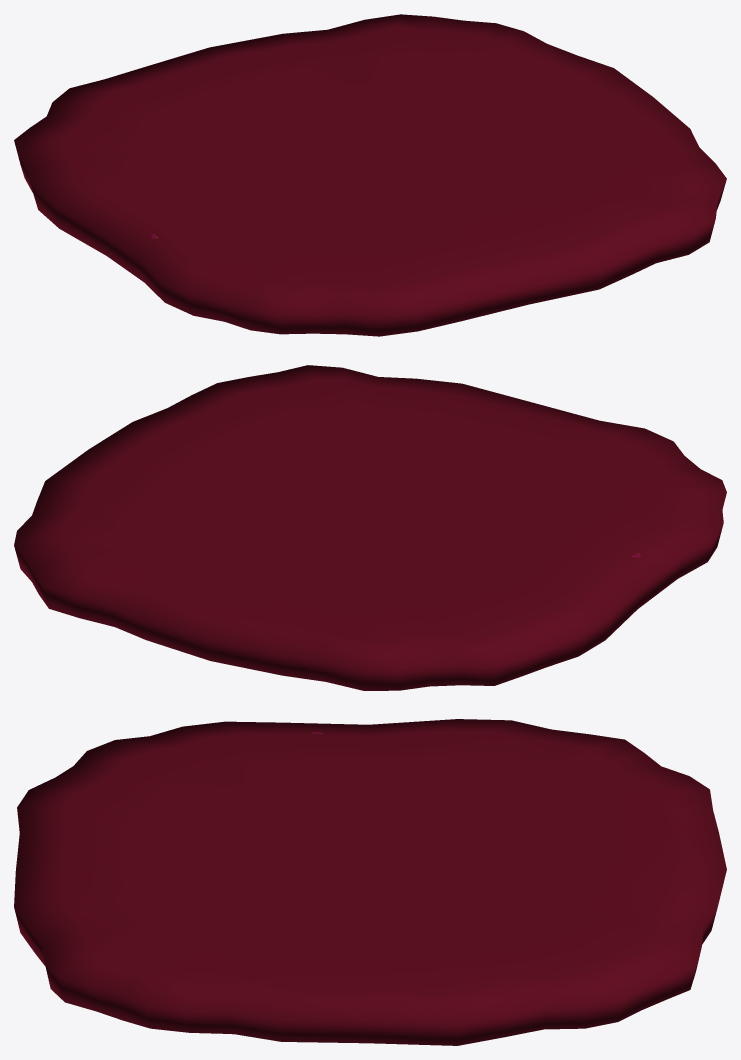
The model's file is SM_RV_TerrainPatch.fbx.
3 views of the same model, one above another, from view 1: azimuth 30°, elevation 25°; view 2: azimuth 150°, elevation 25°; view 3: azimuth 270°, elevation 25° (orthographic). The views are drawn at different scales.
Visible parts, largest first — view 1: SM_RV_TerrainPatch; view 2: SM_RV_TerrainPatch; view 3: SM_RV_TerrainPatch.
Part boxes in pixels (box(x1,y1,x2,y2)): SM_RV_TerrainPatch: box(14, 14, 726, 336); SM_RV_TerrainPatch: box(14, 365, 726, 690); SM_RV_TerrainPatch: box(14, 719, 726, 1045).
Size of the model in its own units: 4443 by 4445 by 269.
